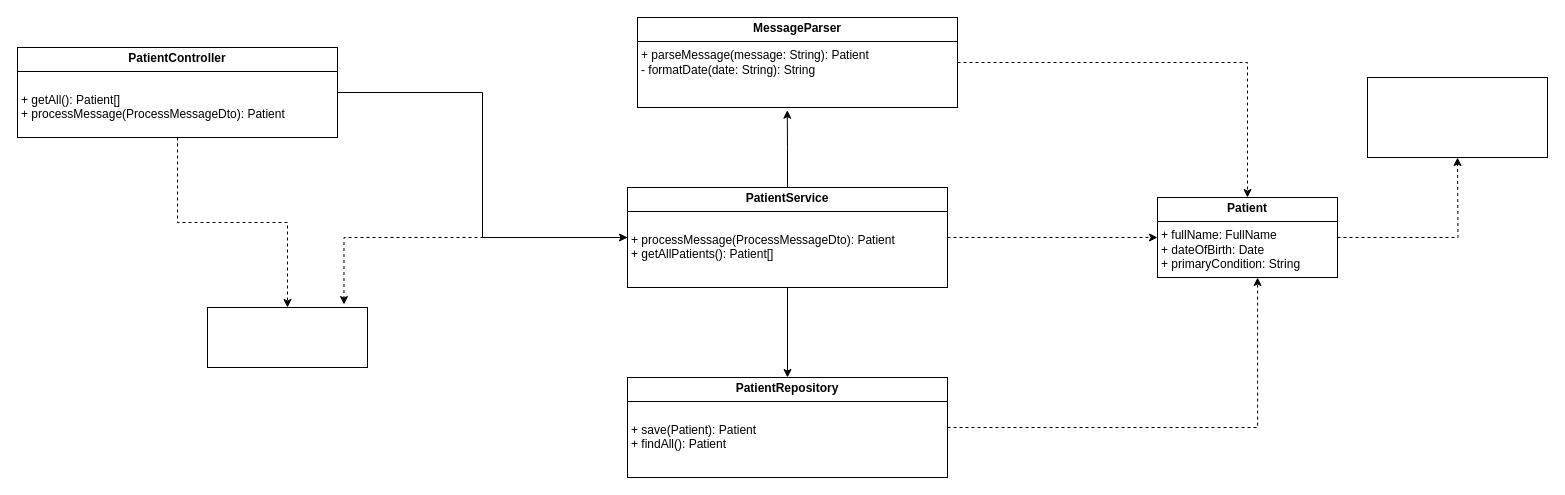
The diagram is 1565 pixels wide and 495 high, and some of its shapes have lost their labels. Each missing label, with the centre of its shape:
FullName + firstName: String + middleName: String + lastName: String: (1457,117)
ProcessMessageDto + message: String: (287,337)
